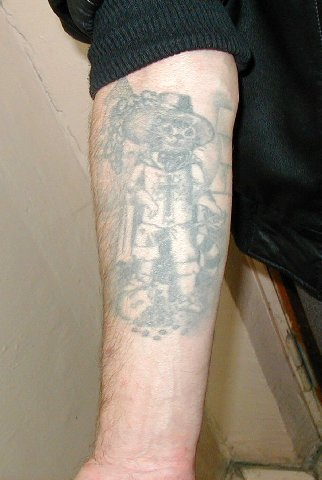tatu8_kot: (99, 84, 234, 343)
